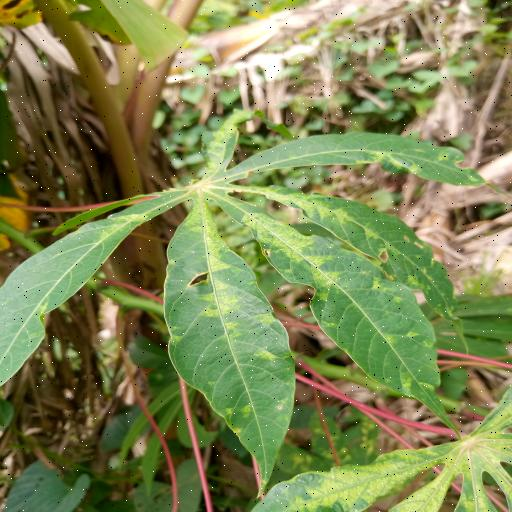Cassava_Mosaic: (0, 112, 483, 490)
